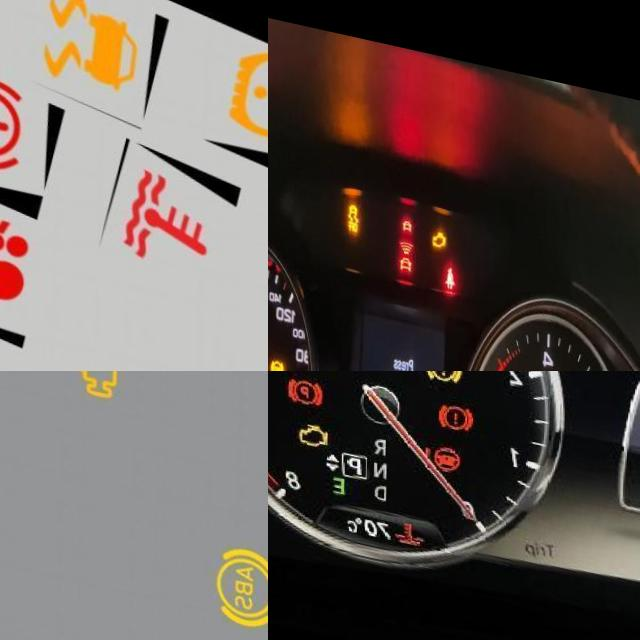Engine cooling system: (396, 500, 431, 534)
